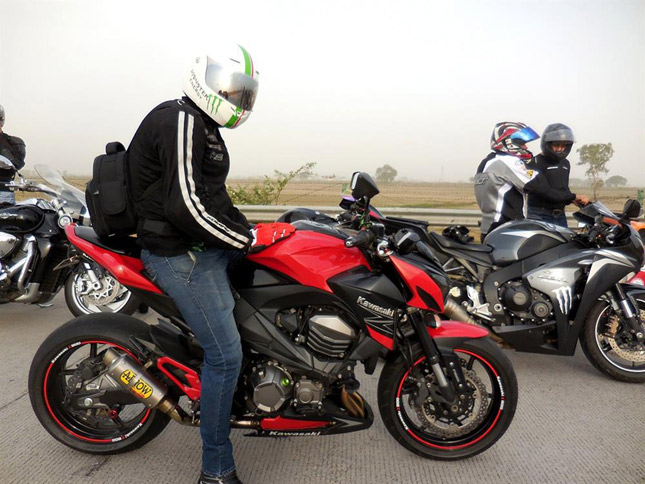with_helmet: (185, 41, 265, 131), (490, 124, 548, 160)
